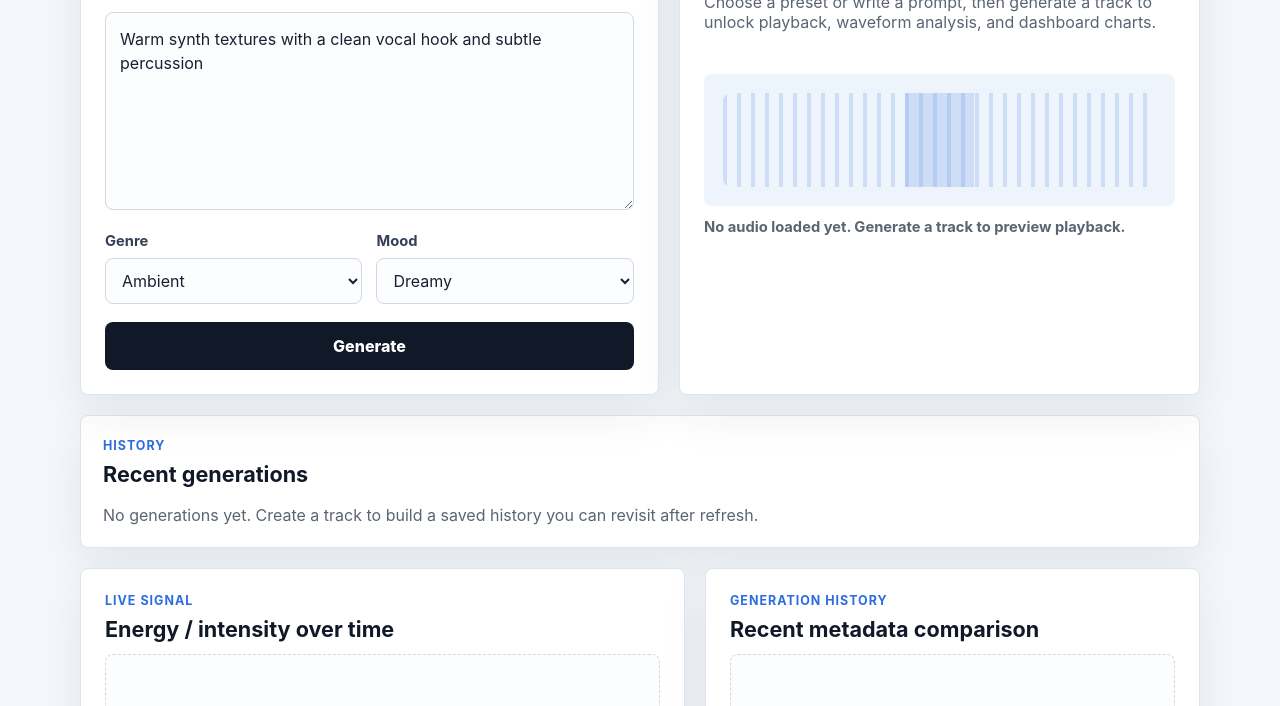
Test: AI Music Dashboard › shows the generated track after a successful response
(page scrolled)
What coordinates should you click on to do the following:
click the button "Generate"
I would click on:
 (369, 346)
Its box is [105,322,634,370].
(page scrolled)
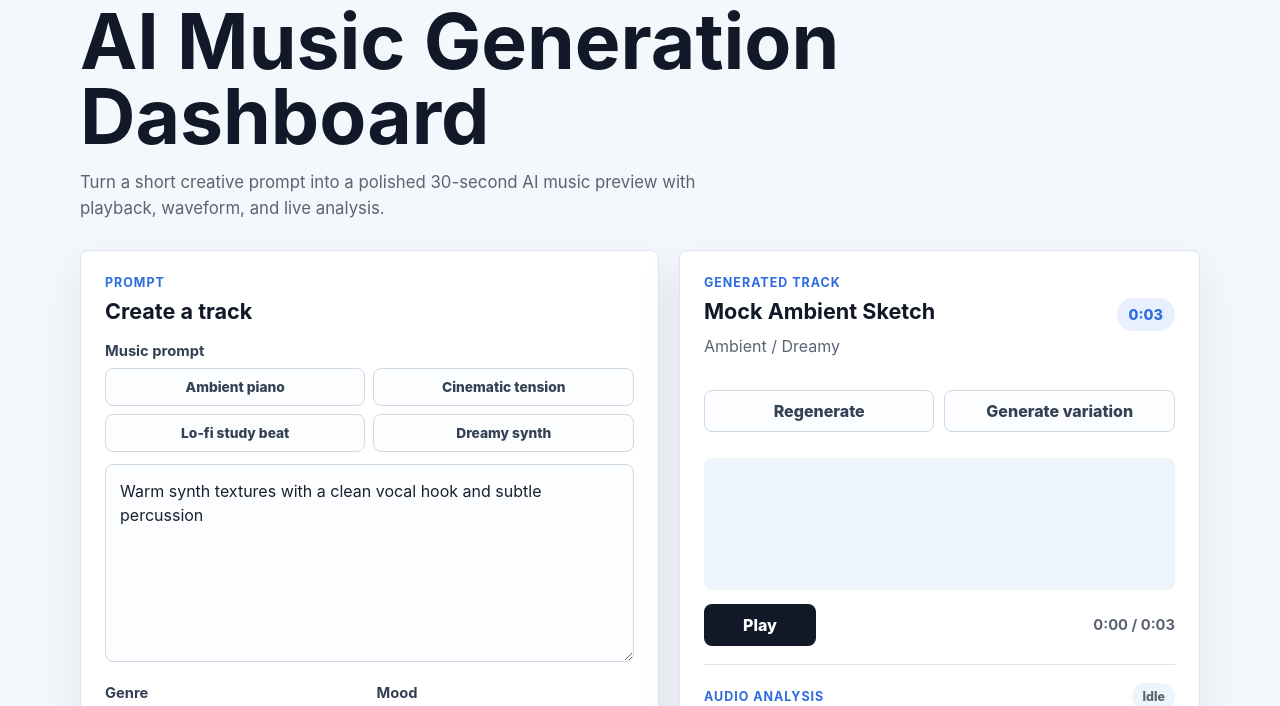
Expected: the heading "Mock Ambient Sketch" is shown, [704,298,935,324]
Expected: the text "Ambient / Dreamy" is shown, [704,336,840,356]
